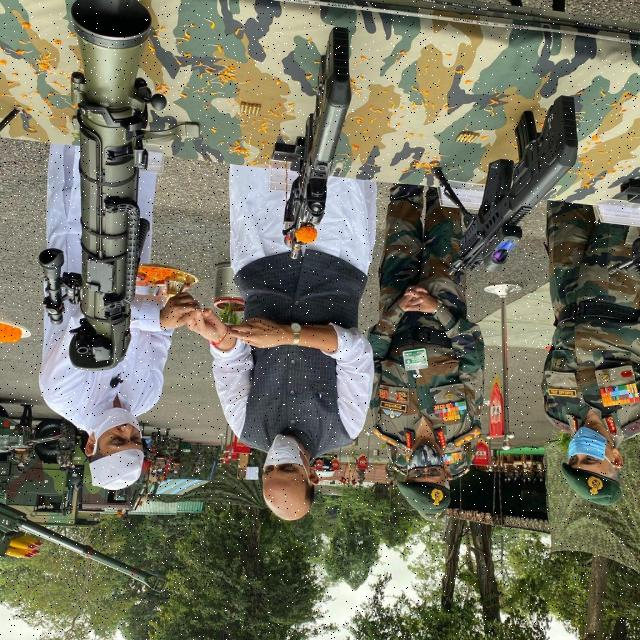bazooka: (35, 1, 169, 372)
